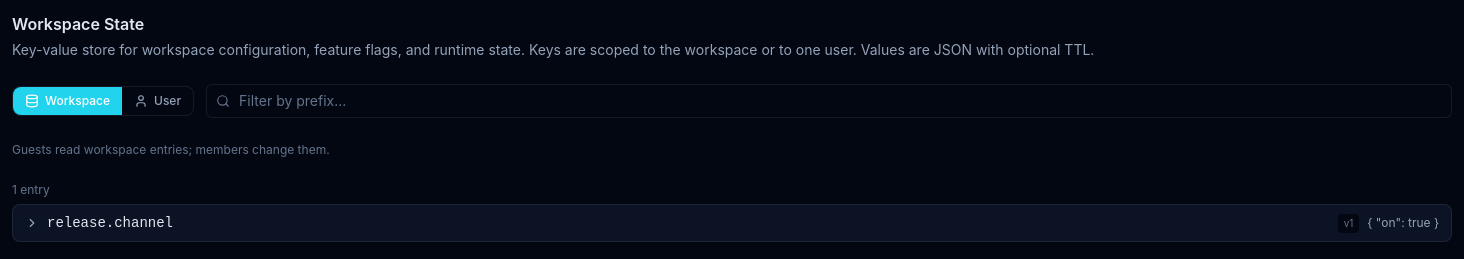
Scenario: WorkspaceStateSettings for a guest › offers a guest no New entry, Edit or Delete in the workspace scope, and all of them in the user scope
Check: the text "Guests read workspace entries; members change them." is shown, box [12,142,330,157]
Check: the text "release.channel" is shown, box [47,215,173,231]
Click the button "User".
click(158, 101)  # box [122,87,193,115]
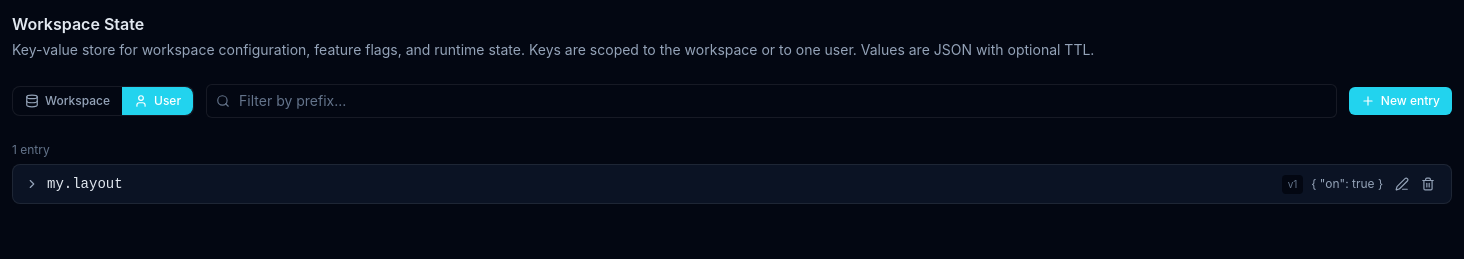
Check: the text "my.layout" is shown, box [47,176,123,192]
Check: the button "New entry" is shown, box [1349,87,1452,115]
Check: the button titled "Edit" is shown, box [1391,173,1413,195]
